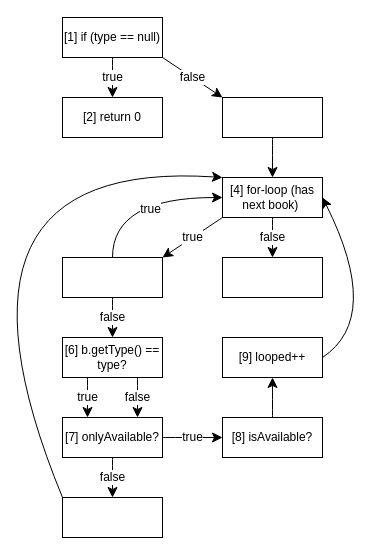
Image size: 372x555. Some labels were removed from this diagram. Each missing label, with the box of its shape:
[10] looped++: (62, 496, 162, 538)
[11] return looped: (222, 256, 322, 298)
[3] looped = 0: (222, 96, 322, 138)
[5] b == null: (62, 256, 162, 298)
